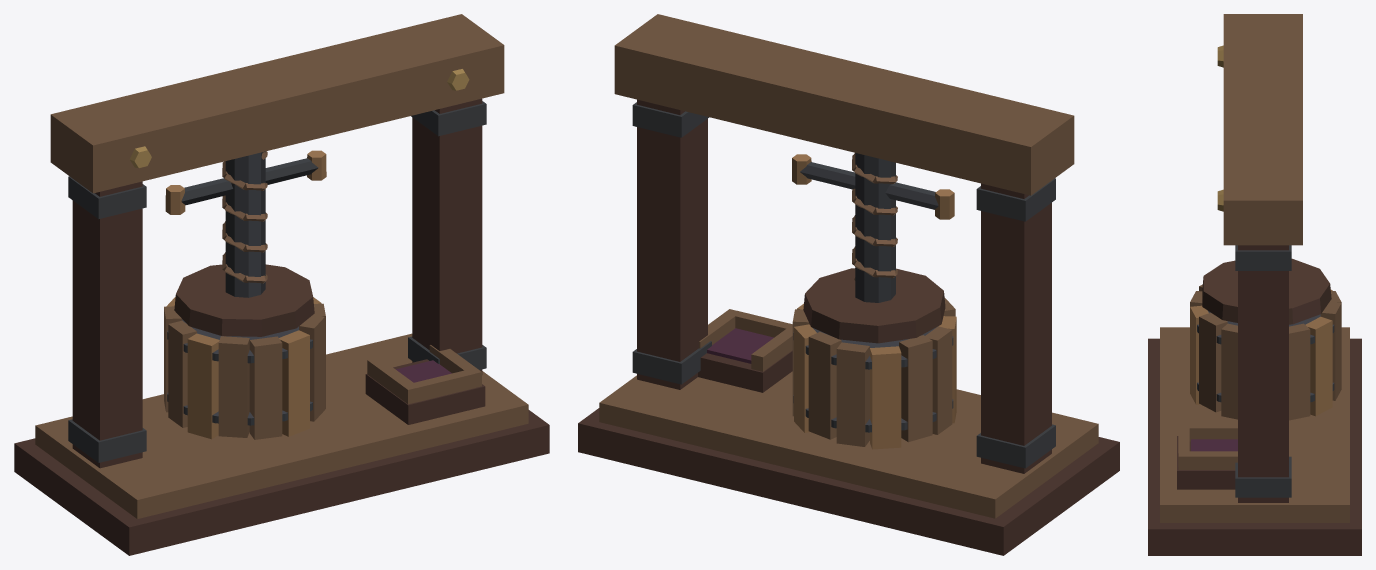
The model's file is wine-press-working.glb.
3 renders of one model, left to right at view 1: azimuth 30°, elevation 25°; view 2: azimuth 150°, elevation 25°; view 3: azimuth 270°, elevation 25°, orthographic. The views are drawn at different scales.
Visible parts, largest first — view 1: Winery press · working; view 2: Winery press · working; view 3: Winery press · working.
Part boxes in pixels (x1,y1,x2,y2): Winery press · working: (14,14,549,555); Winery press · working: (578,14,1119,555); Winery press · working: (1148,14,1361,555).
Size of the model in its own units: 1.88 by 1.62 by 0.89.
